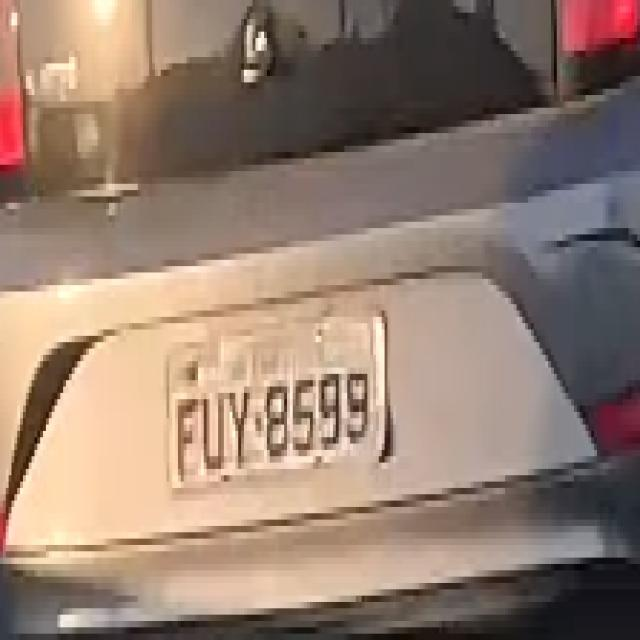Placa_mercosul_carro: (167, 315, 387, 500)
